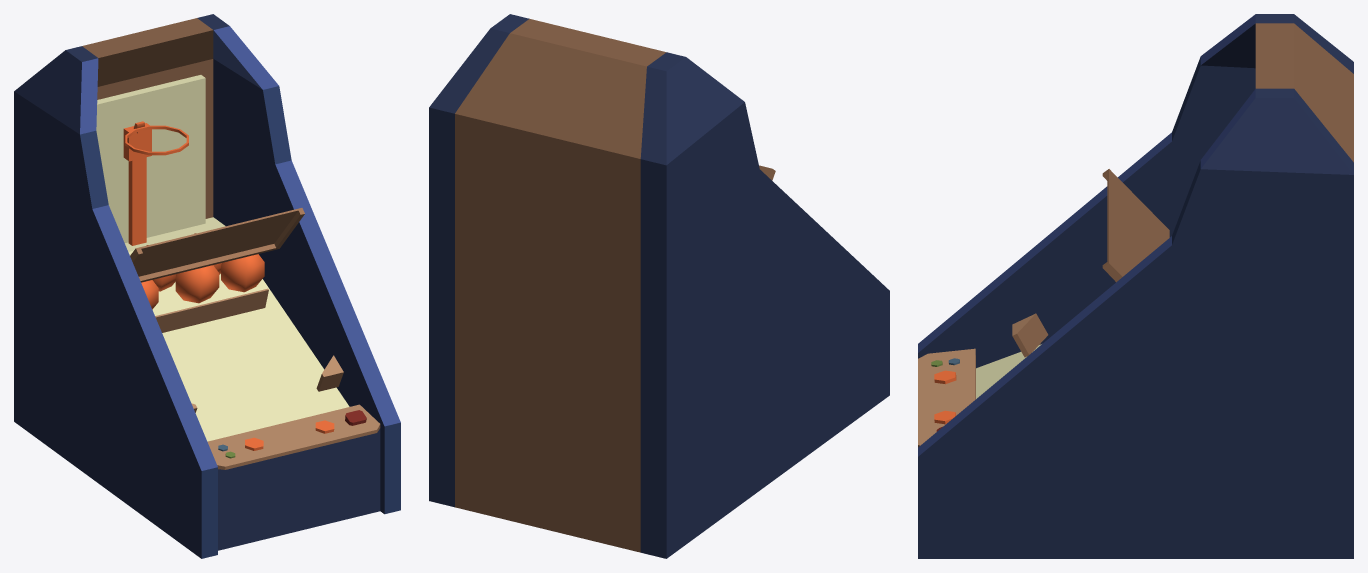
Rendered from SM_GameArea_RecreationalMachines_01.fbx.
The picture shows the model from 3 angles, left to right: view 1: azimuth 30°, elevation 25°; view 2: azimuth 150°, elevation 25°; view 3: azimuth 270°, elevation 25°; orthographic projection. The views are drawn at different scales.
Parts seen in each view (by area): view 1: SM_GameArea_RecreationalMachines_01; view 2: SM_GameArea_RecreationalMachines_01; view 3: SM_GameArea_RecreationalMachines_01.
Boxes of the visible parts, left/top/right/bottom form: SM_GameArea_RecreationalMachines_01: left=14, top=14, right=400, bottom=558; SM_GameArea_RecreationalMachines_01: left=429, top=14, right=889, bottom=558; SM_GameArea_RecreationalMachines_01: left=918, top=14, right=1353, bottom=558.
Size of the model in its own units: 6.97 by 12.84 by 11.36.
Materials: 2 (1 with a texture image).
